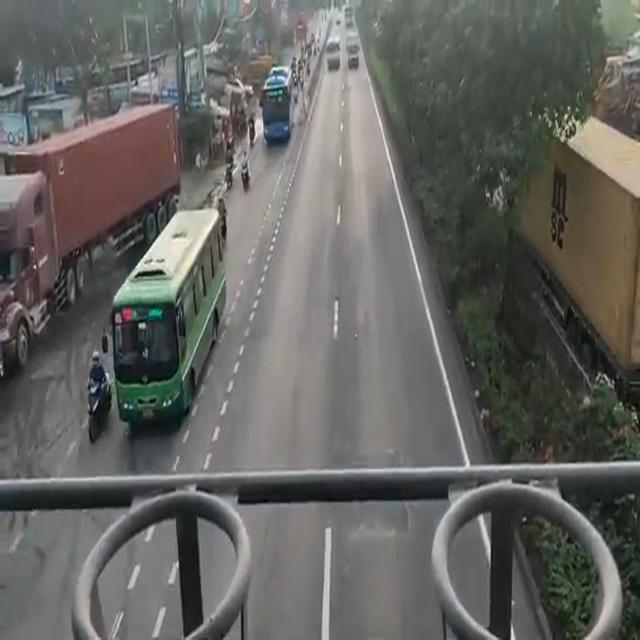bus: (110, 206, 224, 426), (258, 58, 291, 156)
motor: (85, 378, 107, 444)
truck: (497, 90, 640, 370), (0, 93, 181, 224)
